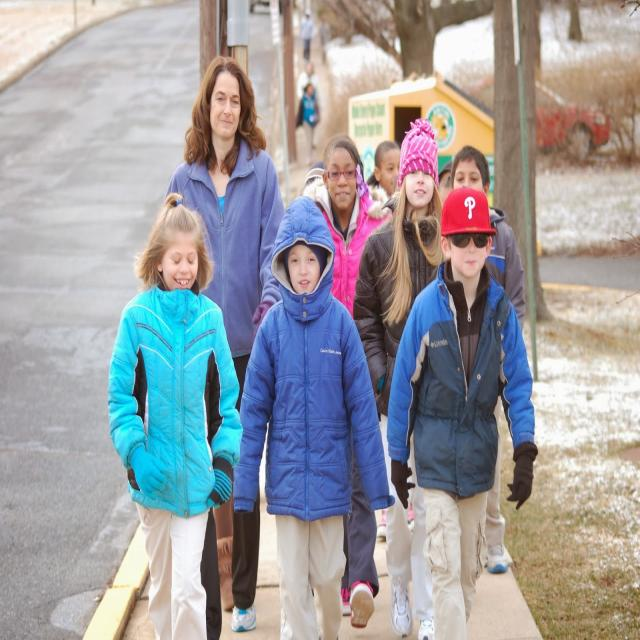body: (160, 51, 290, 640), (231, 192, 394, 639), (385, 186, 537, 639), (108, 187, 243, 639), (353, 117, 451, 640), (303, 137, 393, 627), (451, 145, 522, 576), (295, 78, 322, 166), (373, 141, 402, 197), (296, 59, 322, 104), (298, 8, 315, 61), (437, 160, 455, 210), (302, 163, 324, 190)
